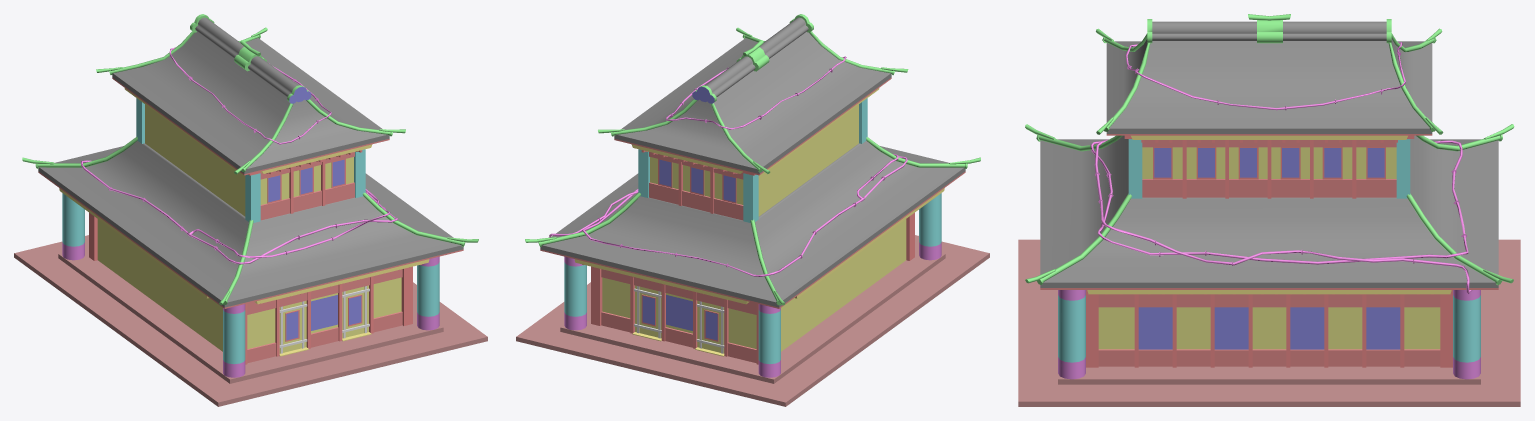
The model's file is SM_ENV_LKNVLD_Building_A_Lod1.gltf.
The picture shows the model from 3 angles, left to right: view 1: azimuth 30°, elevation 25°; view 2: azimuth 150°, elevation 25°; view 3: azimuth 270°, elevation 25°; orthographic projection. The views are drawn at different scales.
Parts seen in each view (by area): view 1: SM_ENV_LKNVLD_Building_A_Lod1; view 2: SM_ENV_LKNVLD_Building_A_Lod1; view 3: SM_ENV_LKNVLD_Building_A_Lod1.
Part boxes in pixels (x1,y1,x2,y2): SM_ENV_LKNVLD_Building_A_Lod1: (14,14,487,406); SM_ENV_LKNVLD_Building_A_Lod1: (516,14,989,406); SM_ENV_LKNVLD_Building_A_Lod1: (1018,14,1520,406).
Size of the model in its own units: 19.3 by 17.3 by 25.3.
